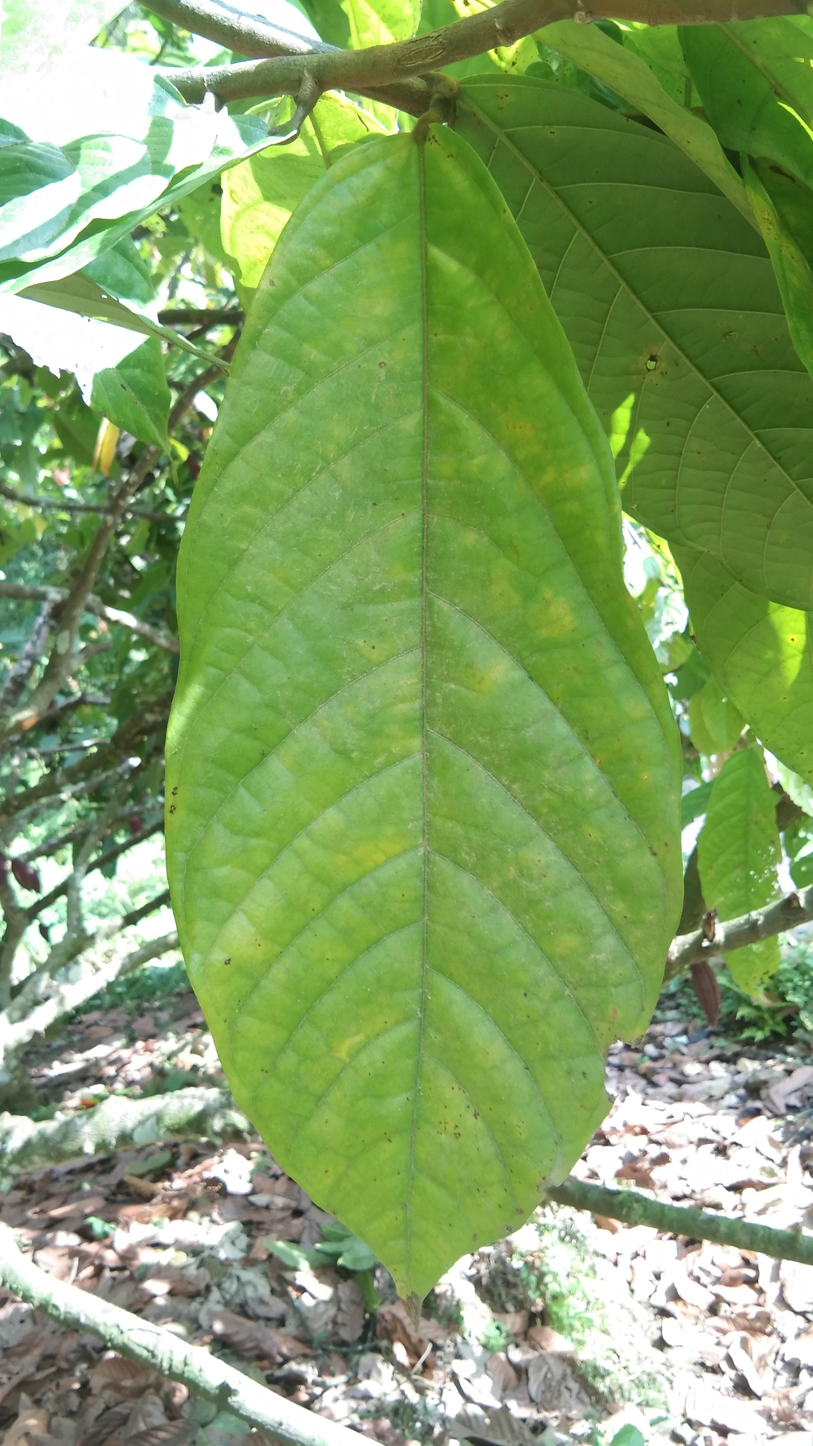deficiencia_potasio: (167, 115, 681, 1321)
